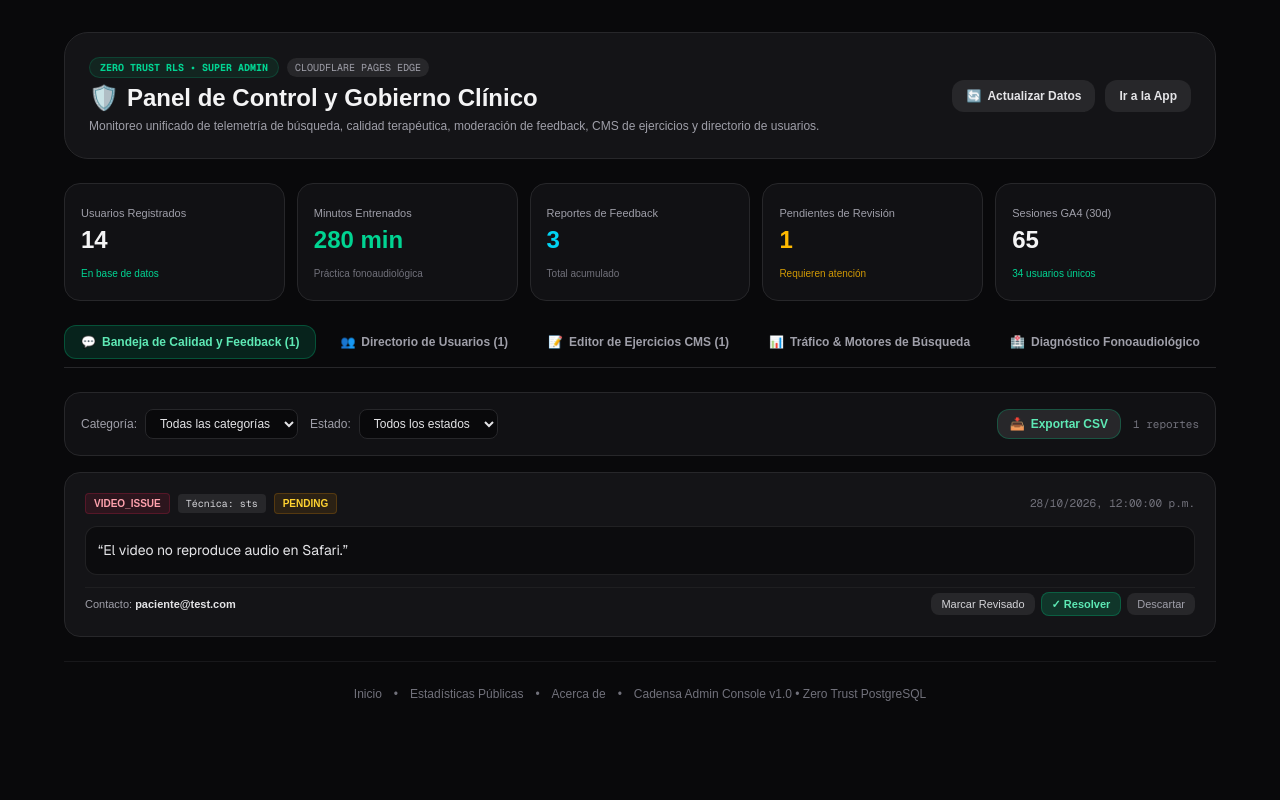
Test: AdminDashboardPage › renderiza el panel de control completo con tabs y métricas cuando el usuario es administrador
The width and height of the screenshot is (1280, 800).
Check: the text "Panel de Control y Gobierno Clínico" is shown, box [127,82,538,114]
Check: the text "280 min" is shown, box [314,226,403,253]
# Navegar a la pestaña de Usuarios
Click the button "👥 Directorio de Usuarios (1)": (424, 342) [324,326,524,358]
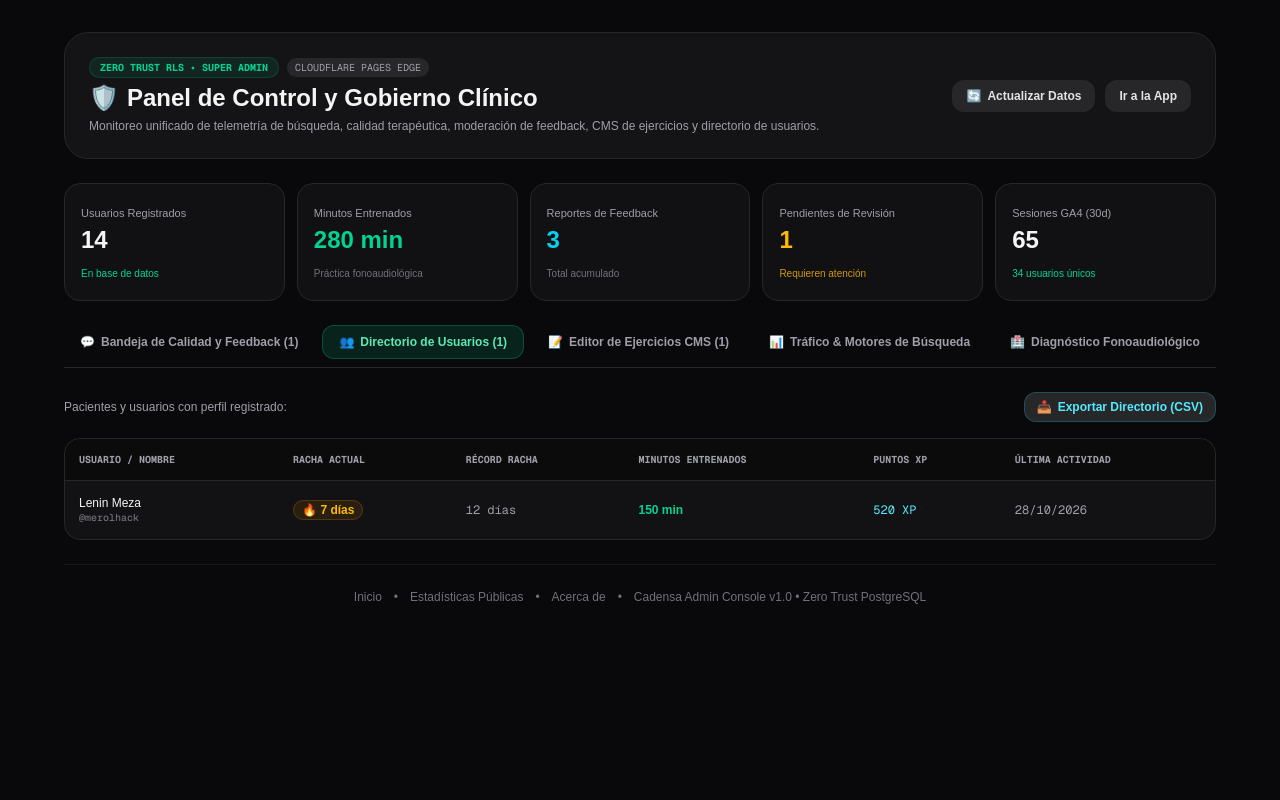
Check: the text "Lenin Meza" is shown, box [79,496,141,510]
Check: the text "150 min" is shown, box [624,481,859,539]
Check: the text "🔥 7 días" is shown, box [293,500,364,520]
# Navegar a la pestaña CMS de Ejercicios
Click the button "📝 Editor de Ejercicios CMS (1)": (639, 342) [532,326,745,358]
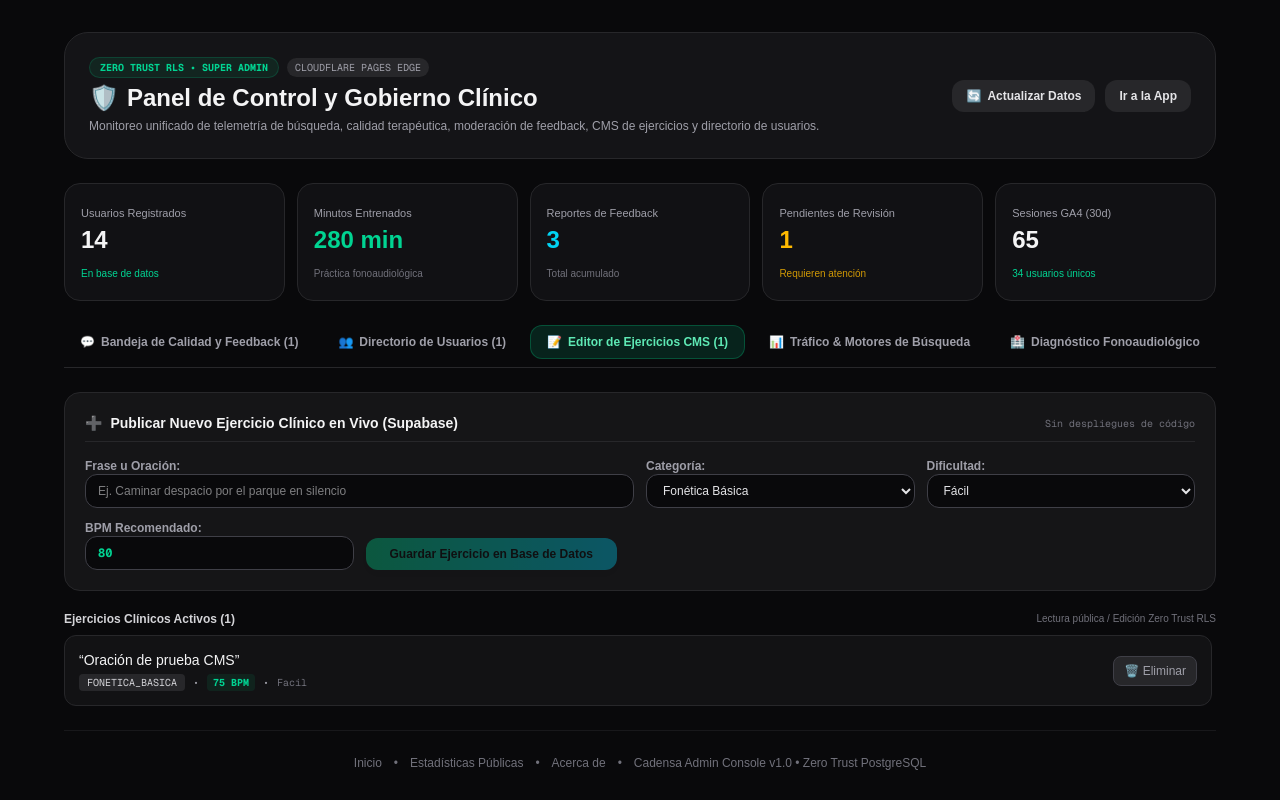
Check: the text "Publicar Nuevo Ejercicio Clínico en Vivo (Supabase)" is shown, box [110,413,458,433]
Check: the text "“Oración de prueba CMS”" is shown, box [79,652,239,668]
# Navegar a la pestaña de Tráfico
Click the button "📊 Tráfico & Motores de Búsqueda": (870, 342) [753,326,986,358]
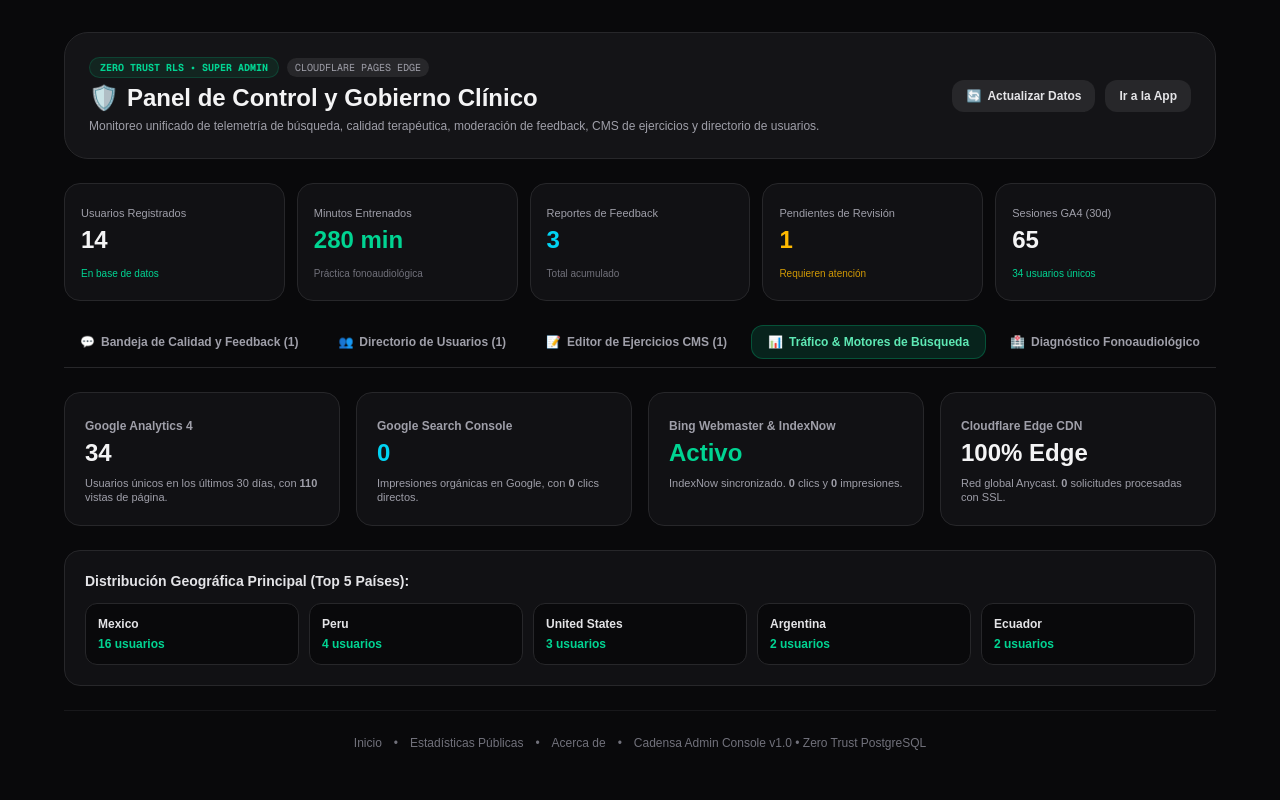
Check: the text "Google Search Console" is shown, box [377,419,512,433]
Check: the text "Bing Webmaster & IndexNow" is shown, box [669,419,836,433]
